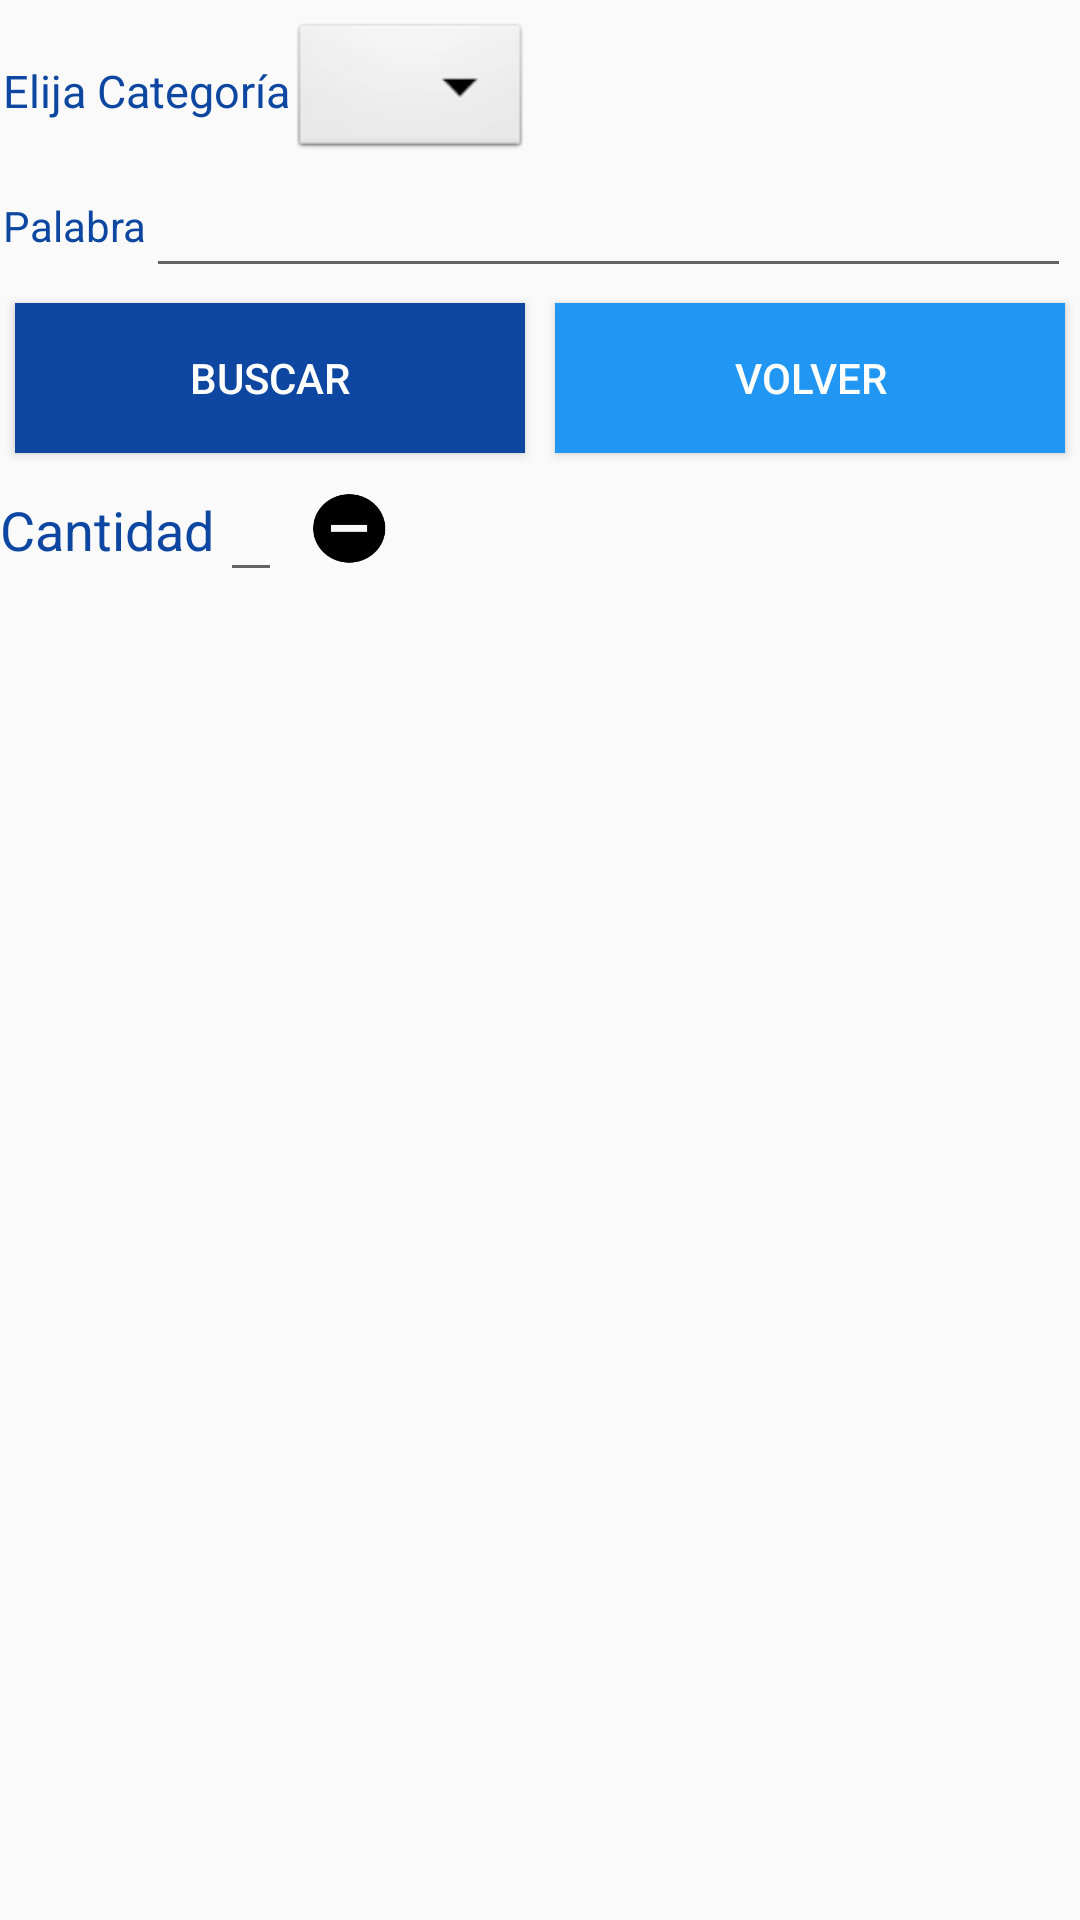

Where to tap for icons on this 1080px×1920px app screen, as (x,y):
menos: (349,528)
